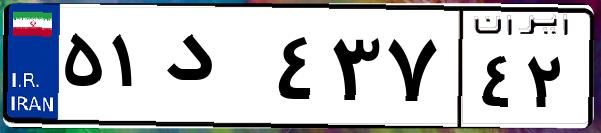1: (110, 28, 158, 98)
2: (525, 38, 570, 115)
3: (330, 28, 385, 110)
4: (270, 28, 330, 110), (475, 38, 525, 113)
5: (57, 26, 110, 100)
7: (385, 28, 445, 110)
د: (158, 20, 270, 120)
